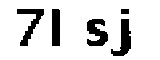7: (8, 4, 49, 53)
I: (51, 6, 68, 53)
j: (110, 8, 138, 60)
s: (85, 17, 111, 50)
